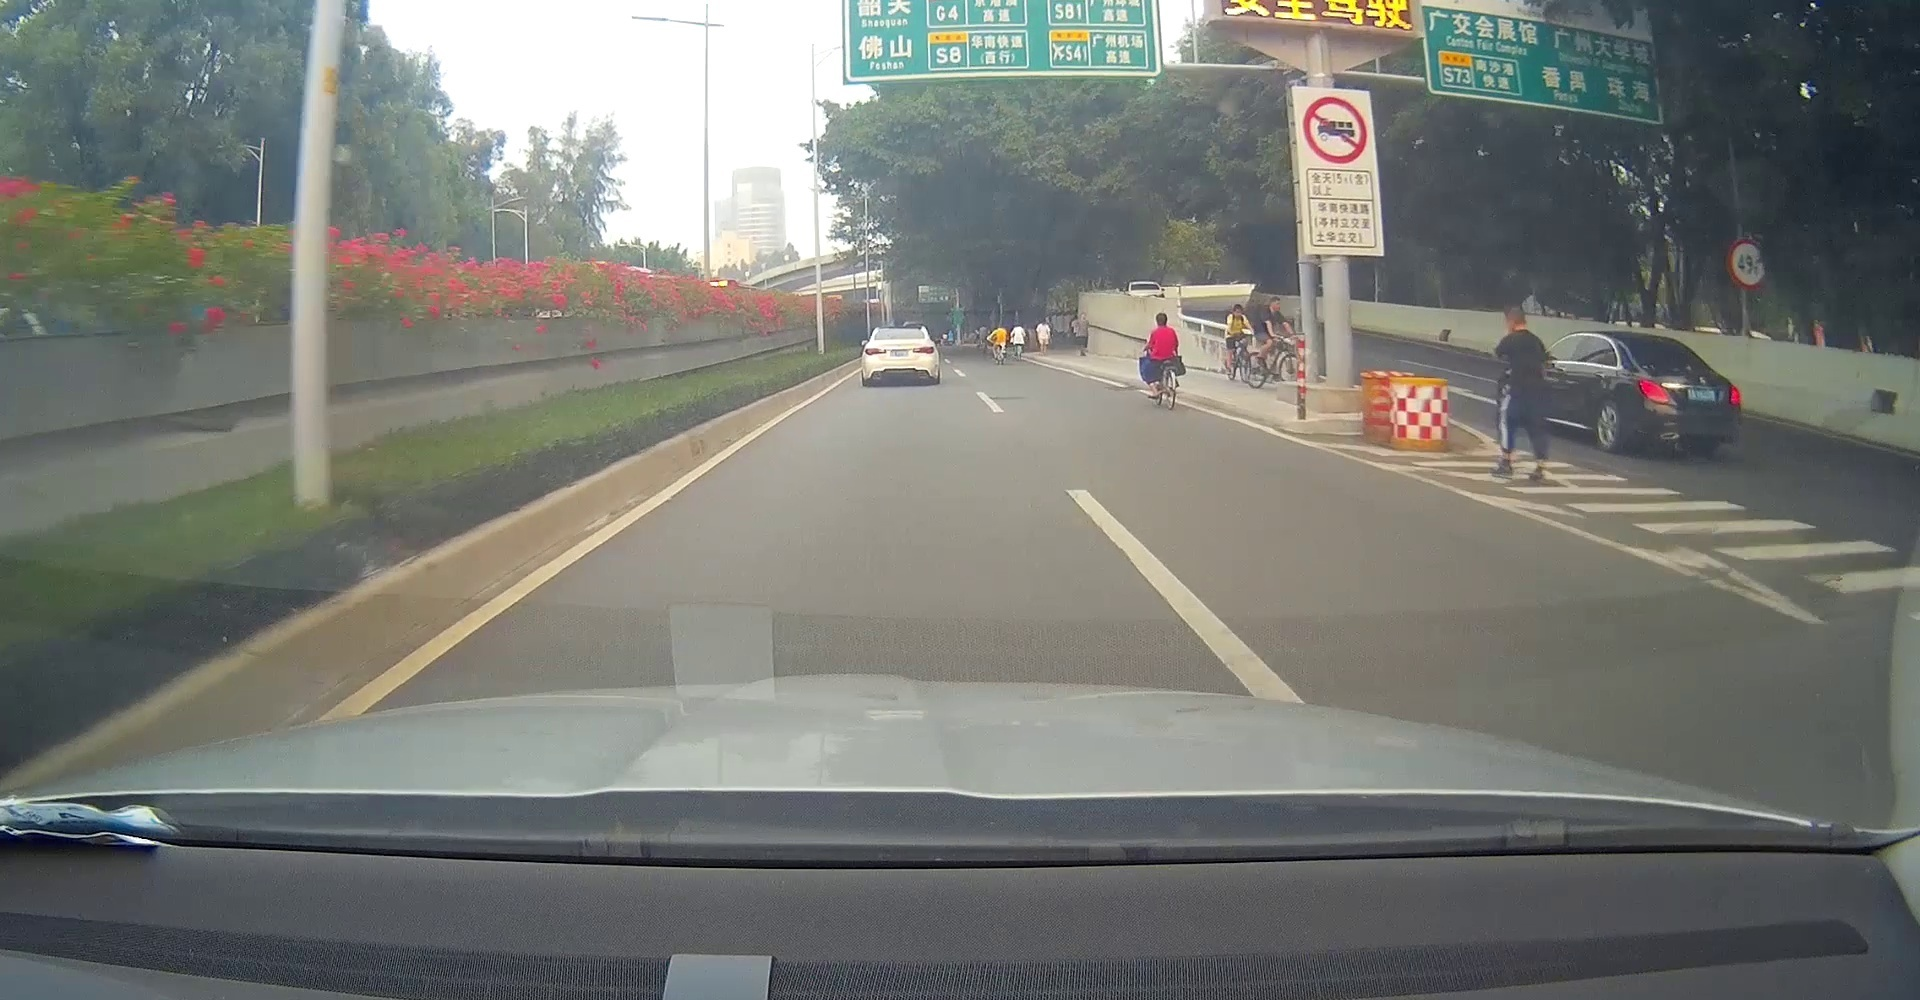L_light: (1637, 377, 1677, 406), (865, 348, 888, 357)
R_light: (1730, 385, 1740, 406), (913, 346, 935, 354)
T_light: (1677, 368, 1694, 371), (895, 327, 905, 330)
day-no: (1618, 332, 1742, 456), (861, 326, 940, 386)
